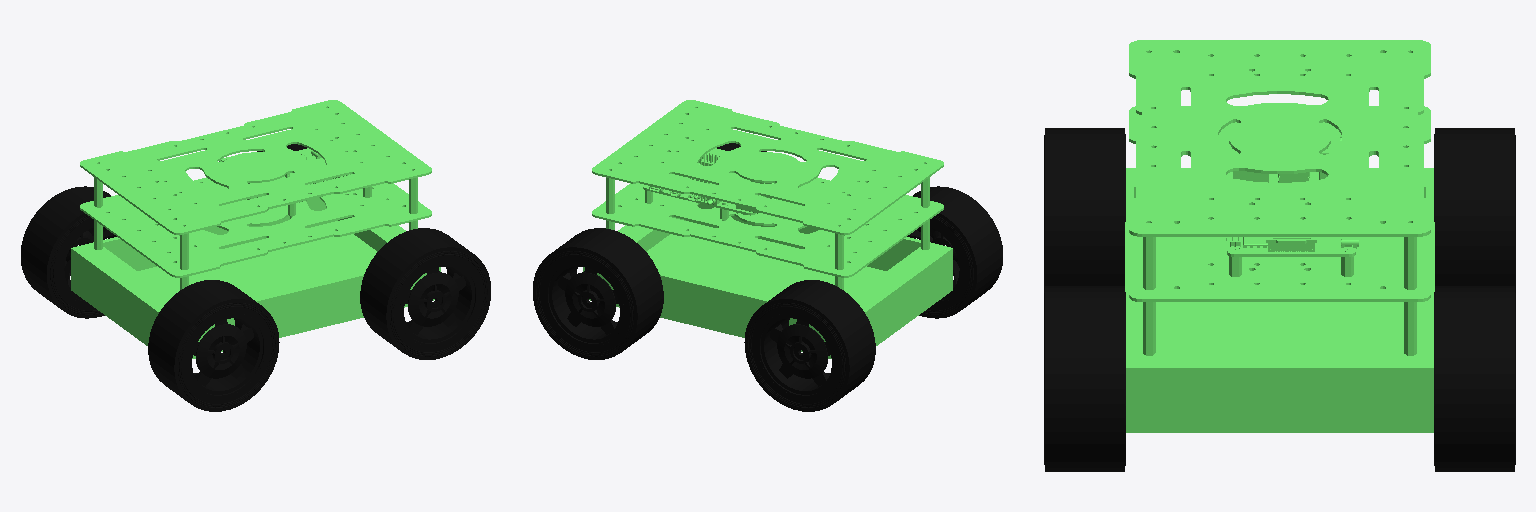
URDF robot description (sucata):
<?xml version="1.0" encoding="utf-8"?>
<!-- This URDF was automatically created by SolidWorks to URDF Exporter! Originally created by [author] ([email redacted]) 
     Commit Version: 1.6.0-4-g7f85cfe  Build Version: 1.6.7995.38578
     For more information, please see http://wiki.ros.org/sw_urdf_exporter -->
<robot
  name="sucata">
  <link
    name="base_link">
    <inertial>
      <origin
        xyz="0.0014564 0.00032017 0.02708"
        rpy="0 0 0" />
      <mass
        value="0.29402" />
      <inertia
        ixx="0.00054056"
        ixy="-1.0152E-08"
        ixz="6.2563E-09"
        iyy="0.0012531"
        iyz="1.8536E-10"
        izz="0.0017493" />
    </inertial>
    <visual>
      <origin
        xyz="0 0 0"
        rpy="0 0 0" />
      <geometry>
        <mesh
          filename="package://sucata/meshes/base_link.STL" />
      </geometry>
      <material
        name="verde_claro">
        <color
          rgba="0.5 1.0 0.5 1"/>
      </material>
    </visual>
    <collision>
      <origin
        xyz="0 0 0"
        rpy="0 0 0" />
      <geometry>
        <mesh
          filename="package://sucata/meshes/base_link.STL" />
      </geometry>
    </collision>
  </link>
  <link
    name="rodaFE">
    <inertial>
      <origin
        xyz="4.33708624569817E-13 -0.0116000427495452 3.641063145432E-13"
        rpy="0 0 0" />
      <mass
        value="0.0417534418555908" />
      <inertia
        ixx="2.90386422409949E-05"
        ixy="-9.63351560872344E-17"
        ixz="-1.16755116343788E-16"
        iyy="4.53732000489224E-05"
        iyz="-1.07562778637676E-16"
        izz="2.90386422317585E-05" />
    </inertial>
    <visual>
      <origin
        xyz="0 0 0"
        rpy="0 0 0" />
      <geometry>
        <mesh
          filename="package://sucata/meshes/rodaFE.STL" />
      </geometry>
      <material
        name="preto">
        <color
          rgba="0.1 0.1 0.1 1"/>
      </material>
    </visual>
    <collision>
      <origin
        xyz="0 0 0"
        rpy="0 0 0" />
      <geometry>
        <mesh
          filename="package://sucata/meshes/rodaFE.STL" />
      </geometry>
    </collision>
  </link>
  <joint
    name="roda_FE"
    type="continuous">
    <origin
      xyz="0.0815 0.0973 0.0115"
      rpy="0 0 0" />
    <parent
      link="base_link" />
    <child
      link="rodaFE" />
    <axis
      xyz="0 -1 0" />
    <limit
      effort="10"
      velocity="10" />
    <dynamics
      damping="0.1"
      friction="0.1" />
  </joint>
  <link
    name="rodaTE">
    <inertial>
      <origin
        xyz="4.33729441251529E-13 -0.0116000427495452 3.64085497861488E-13"
        rpy="0 0 0" />
      <mass
        value="0.0417534418555908" />
      <inertia
        ixx="2.90386422409949E-05"
        ixy="-9.63357589960055E-17"
        ixz="-1.1675601730821E-16"
        iyy="4.53732000489224E-05"
        iyz="-1.07560295850229E-16"
        izz="2.90386422317585E-05" />
    </inertial>
    <visual>
      <origin
        xyz="0 0 0"
        rpy="0 0 0" />
      <geometry>
        <mesh
          filename="package://sucata/meshes/rodaTE.STL" />
      </geometry>
      <material
        name="preto">
        <color
          rgba="0.1 0.1 0.1 1"/>
      </material>
    </visual>
    <collision>
      <origin
        xyz="0 0 0"
        rpy="0 0 0" />
      <geometry>
        <mesh
          filename="package://sucata/meshes/rodaTE.STL" />
      </geometry>
    </collision>
  </link>
  <joint
    name="roda_TE"
    type="continuous">
    <origin
      xyz="-0.0815 0.0973 0.0115"
      rpy="0 0 0" />
    <parent
      link="base_link" />
    <child
      link="rodaTE" />
    <axis
      xyz="0 -1 0" />
    <limit
      effort="10"
      velocity="10" />
    <dynamics
      damping="0.1"
      friction="0.1" />
  </joint>
  <link
    name="rodaFD">
    <inertial>
      <origin
        xyz="-4.33708624569817E-13 0.0116000427495451 3.64003965858117E-13"
        rpy="0 0 0" />
      <mass
        value="0.0417534418555909" />
      <inertia
        ixx="2.90386422409949E-05"
        ixy="-9.63348726903862E-17"
        ixz="1.16761894791001E-16"
        iyy="4.53732000489225E-05"
        iyz="1.07446973492785E-16"
        izz="2.90386422317586E-05" />
    </inertial>
    <visual>
      <origin
        xyz="0 0 0"
        rpy="0 0 0" />
      <geometry>
        <mesh
          filename="package://sucata/meshes/rodaFD.STL" />
      </geometry>
      <material
        name="preto">
        <color
          rgba="0.1 0.1 0.1 1"/>
      </material>
    </visual>
    <collision>
      <origin
        xyz="0 0 0"
        rpy="0 0 0" />
      <geometry>
        <mesh
          filename="package://sucata/meshes/rodaFD.STL" />
      </geometry>
    </collision>
  </link>
  <joint
    name="roda_FD"
    type="continuous">
    <origin
      xyz="0.0814999999999993 -0.0973000000000006 0.0115000000000003"
      rpy="0 0 0" />
    <parent
      link="base_link" />
    <child
      link="rodaFD" />
    <axis
      xyz="0 1 0" />
    <limit
      effort="10"
      velocity="10" />
    <dynamics
      damping="0.1"
      friction="0.1" />
  </joint>
  <link
    name="rodaTD">
    <inertial>
      <origin
        xyz="-4.33729441251529E-13 0.0116000427495451 3.64019578369401E-13"
        rpy="0 0 0" />
      <mass
        value="0.0417534418555909" />
      <inertia
        ixx="2.9038642240995E-05"
        ixy="-9.63350567825533E-17"
        ixz="1.16754828991177E-16"
        iyy="4.53732000489225E-05"
        iyz="1.07446496399349E-16"
        izz="2.90386422317586E-05" />
    </inertial>
    <visual>
      <origin
        xyz="0 0 0"
        rpy="0 0 0" />
      <geometry>
        <mesh
          filename="package://sucata/meshes/rodaTD.STL" />
      </geometry>
      <material
        name="preto">
        <color
          rgba="0.1 0.1 0.1 1"/>
      </material>
    </visual>
    <collision>
      <origin
        xyz="0 0 0"
        rpy="0 0 0" />
      <geometry>
        <mesh
          filename="package://sucata/meshes/rodaTD.STL" />
      </geometry>
    </collision>
  </link>
  <joint
    name="roda_TD"
    type="continuous">
    <origin
      xyz="-0.0815 -0.0973 0.0115"
      rpy="0 0 0" />
    <parent
      link="base_link" />
    <child
      link="rodaTD" />
    <axis
      xyz="0 1 0" />
    <limit
      effort="10"
      velocity="10" />
    <dynamics
      damping="0.1"
      friction="0.1" />
  </joint>
</robot>

--- Facts derived from the render (not from the file) ---
The picture shows the robot from 3 angles, left to right: view 1: azimuth 30°, elevation 25°; view 2: azimuth 150°, elevation 25°; view 3: azimuth 270°, elevation 25°; orthographic projection.
Model sucata with 5 links and 4 joints (4 continuous), rooted at base_link, posed every joint at zero.
Visible links, largest first — view 1: base_link, rodaFD, rodaTD, rodaTE; view 2: base_link, rodaFE, rodaTE, rodaTD; view 3: base_link, rodaFE, rodaFD, rodaTE, rodaTD.
Boxes of the visible links, x1,y1,x2,y2 form: base_link: [71, 100, 440, 358]; rodaFD: [360, 228, 490, 359]; rodaTD: [148, 280, 279, 411]; rodaTE: [21, 186, 116, 318]; base_link: [583, 100, 952, 358]; rodaFE: [533, 228, 663, 359]; rodaTE: [744, 280, 875, 411]; rodaTD: [907, 186, 1002, 318]; base_link: [1125, 40, 1434, 432]; rodaFE: [1434, 286, 1515, 471]; rodaFD: [1044, 286, 1125, 471]; rodaTE: [1434, 128, 1515, 292]; rodaTD: [1044, 128, 1125, 292].
Size in the robot's own frame: 0.244 by 0.2054 by 0.1189 metres.
Meshes: 5 distinct files referenced, 5 mesh visuals loaded (5 binary STL).